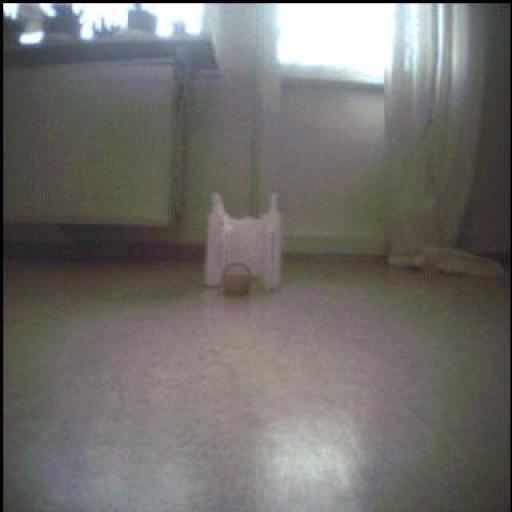Basket: (224, 263, 253, 297)
